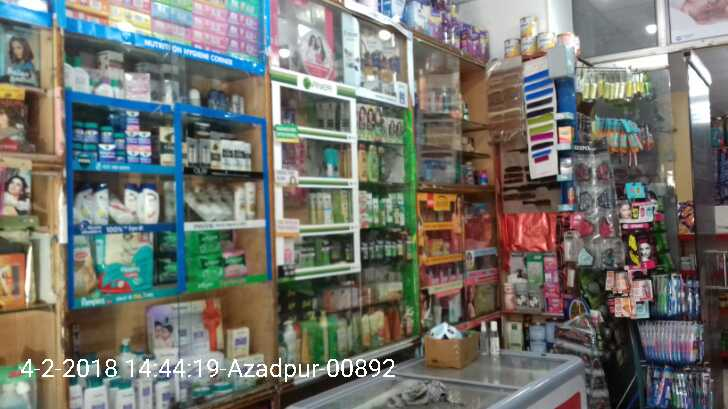oralcare: (644, 367, 713, 409), (640, 320, 707, 359), (651, 275, 701, 316)
vicks: (75, 108, 150, 163)
